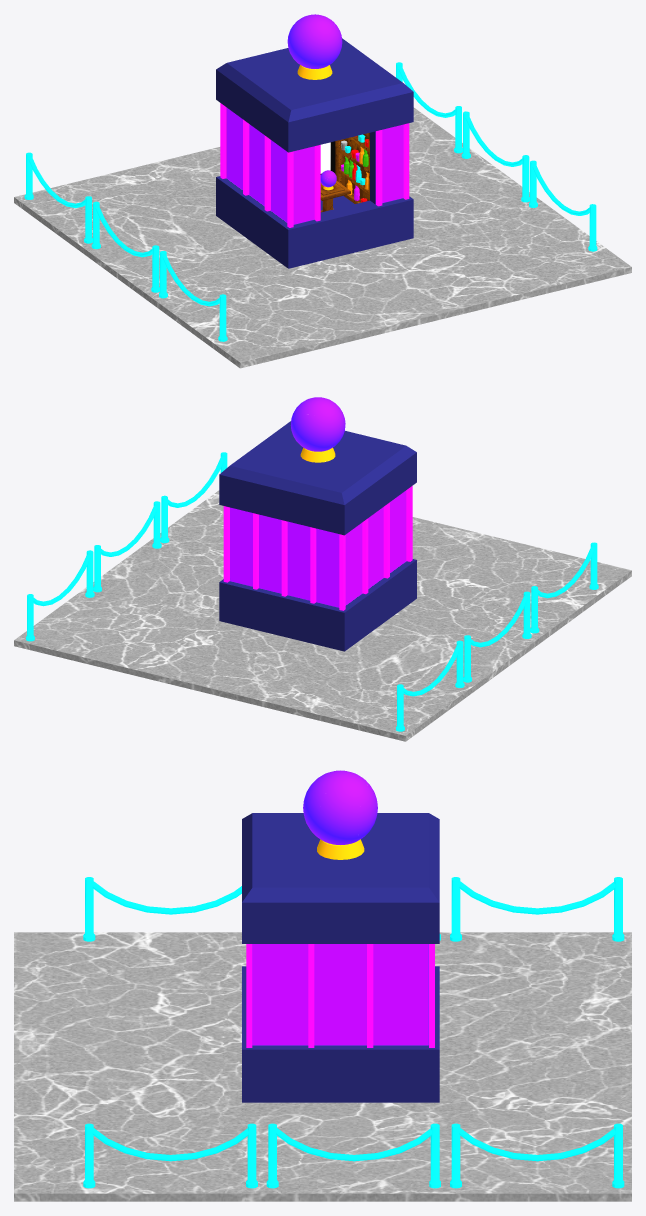
Rendered from fortunetellerbase.glb.
The picture shows the model from 3 angles, top to bottom: view 1: azimuth 30°, elevation 25°; view 2: azimuth 150°, elevation 25°; view 3: azimuth 270°, elevation 25°; orthographic projection. The views are drawn at different scales.
Visible parts, largest first — view 1: fortuneground, fortune teller.001, bathroomblock005, lights.001, topcrystalball.001, fortunefurniture.001, Cylinder017.001; view 2: fortuneground, fortune teller.001, bathroomblock005, lights.001, topcrystalball.001; view 3: fortuneground, fortune teller.001, bathroomblock005, topcrystalball.001, lights.001.
Part boxes in pixels (x1,y1,x2,y2): fortuneground: (14,107,631,368); fortune teller.001: (216,38,413,268); bathroomblock005: (24,62,597,341); lights.001: (220,103,409,227); topcrystalball.001: (287,14,342,79); fortunefurniture.001: (320,133,369,212); Cylinder017.001: (341,134,368,202); fortuneground: (14,490,631,741); fortune teller.001: (219,421,416,651); bathroomblock005: (26,452,598,731); lights.001: (223,486,412,610); topcrystalball.001: (290,397,345,462); fortuneground: (14,932,631,1201); fortune teller.001: (242,813,439,1102); bathroomblock005: (83,877,624,1188); topcrystalball.001: (303,770,377,859); lights.001: (246,944,434,1047).
Size of what is drawn, in the model's own units: 7 by 3.7 by 7.
Materials: 8 (6 with a texture image).
